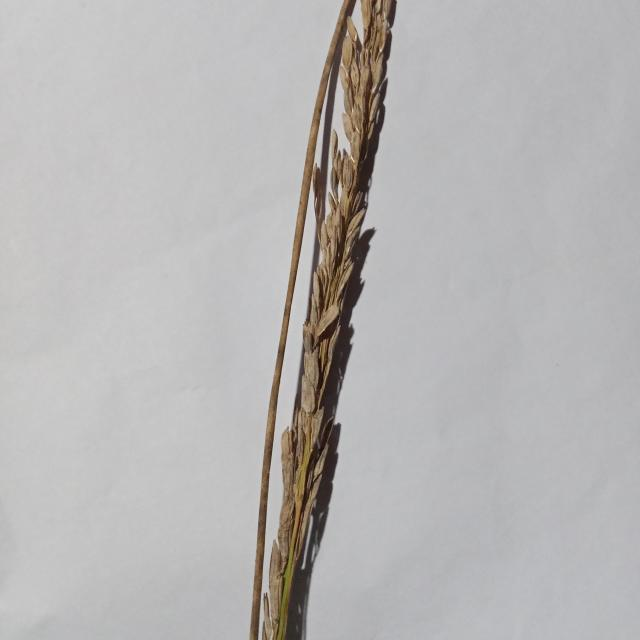Neck_Blast: (255, 1, 410, 634)
